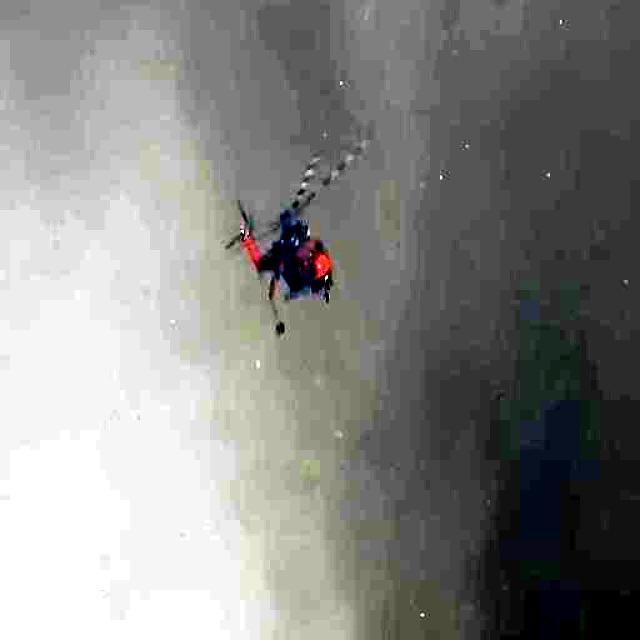drone: (222, 141, 368, 338)
